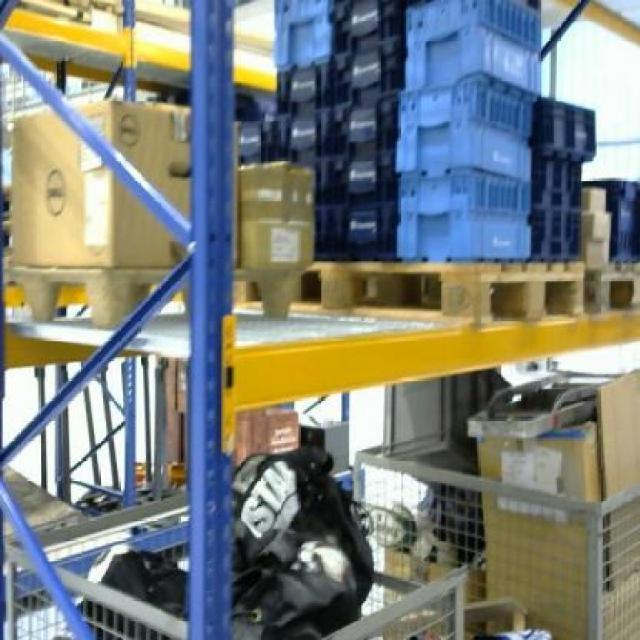box: (7, 101, 190, 267), (480, 438, 606, 624), (243, 157, 314, 263)
